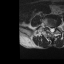CCS_stenosis: (51, 26, 53, 33)
LFS_severe_stenosis: (55, 25, 56, 30)
LLS_normal: (53, 26, 54, 32)
RFS_stenosis: (47, 24, 49, 29)
RLS_normal: (49, 26, 51, 33)
